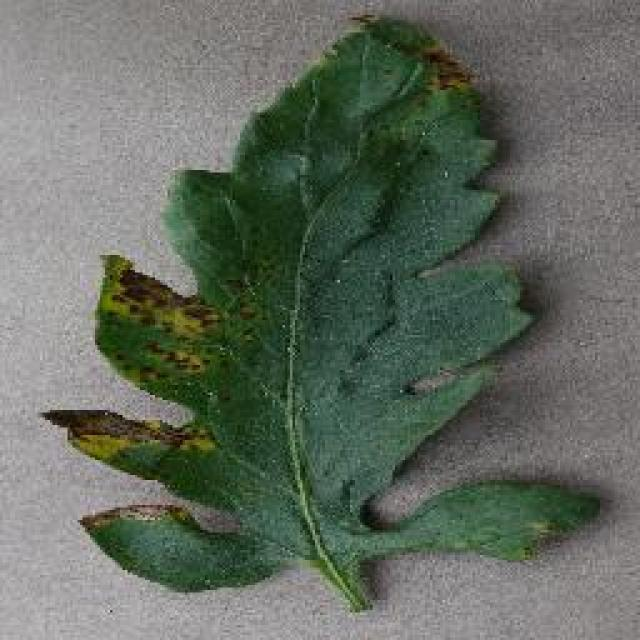Tomato bacterial spot leaf: (45, 8, 612, 597)
